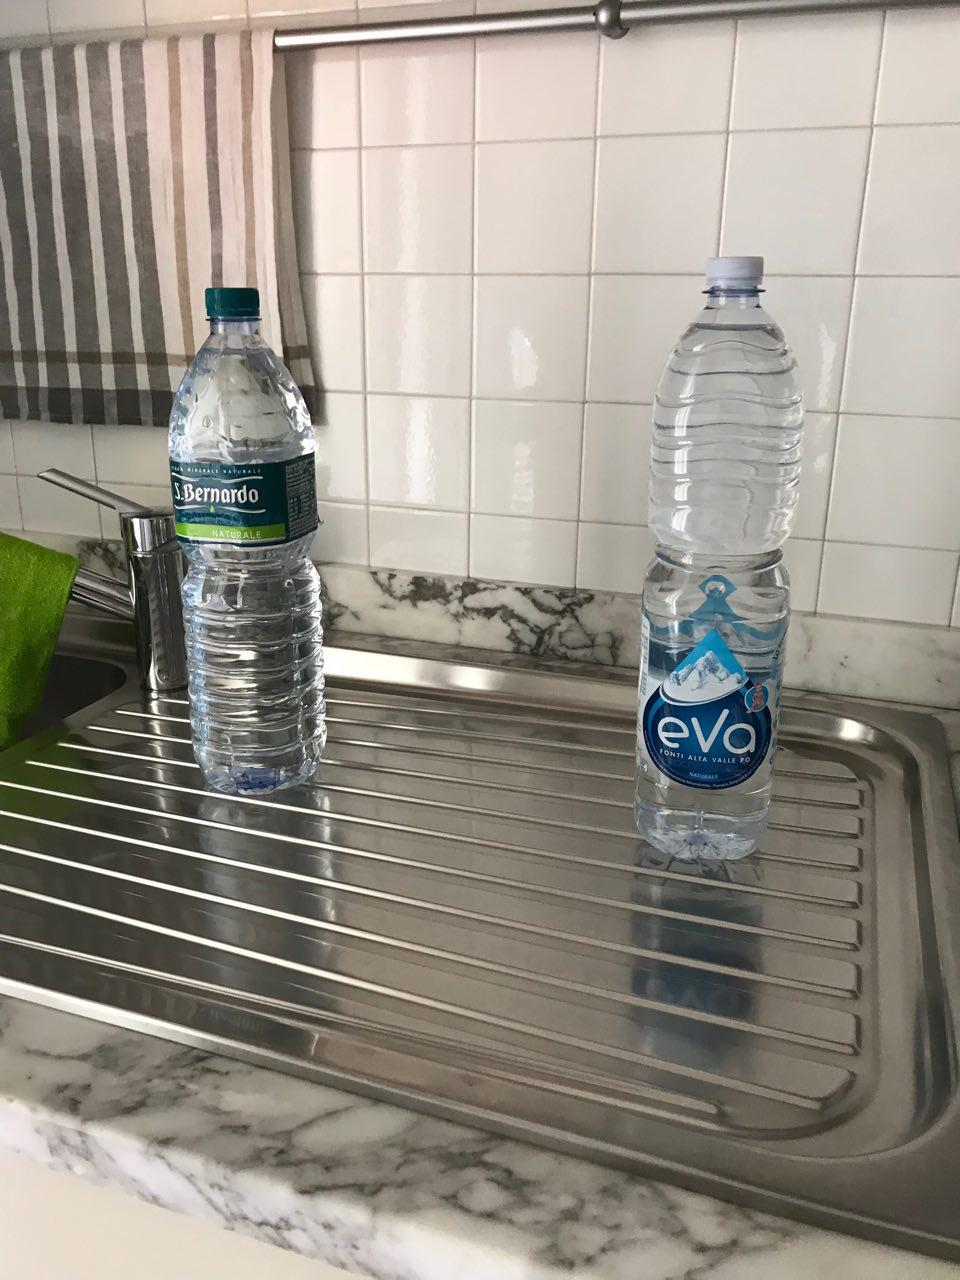san_bernardo: (167, 286, 330, 797)
